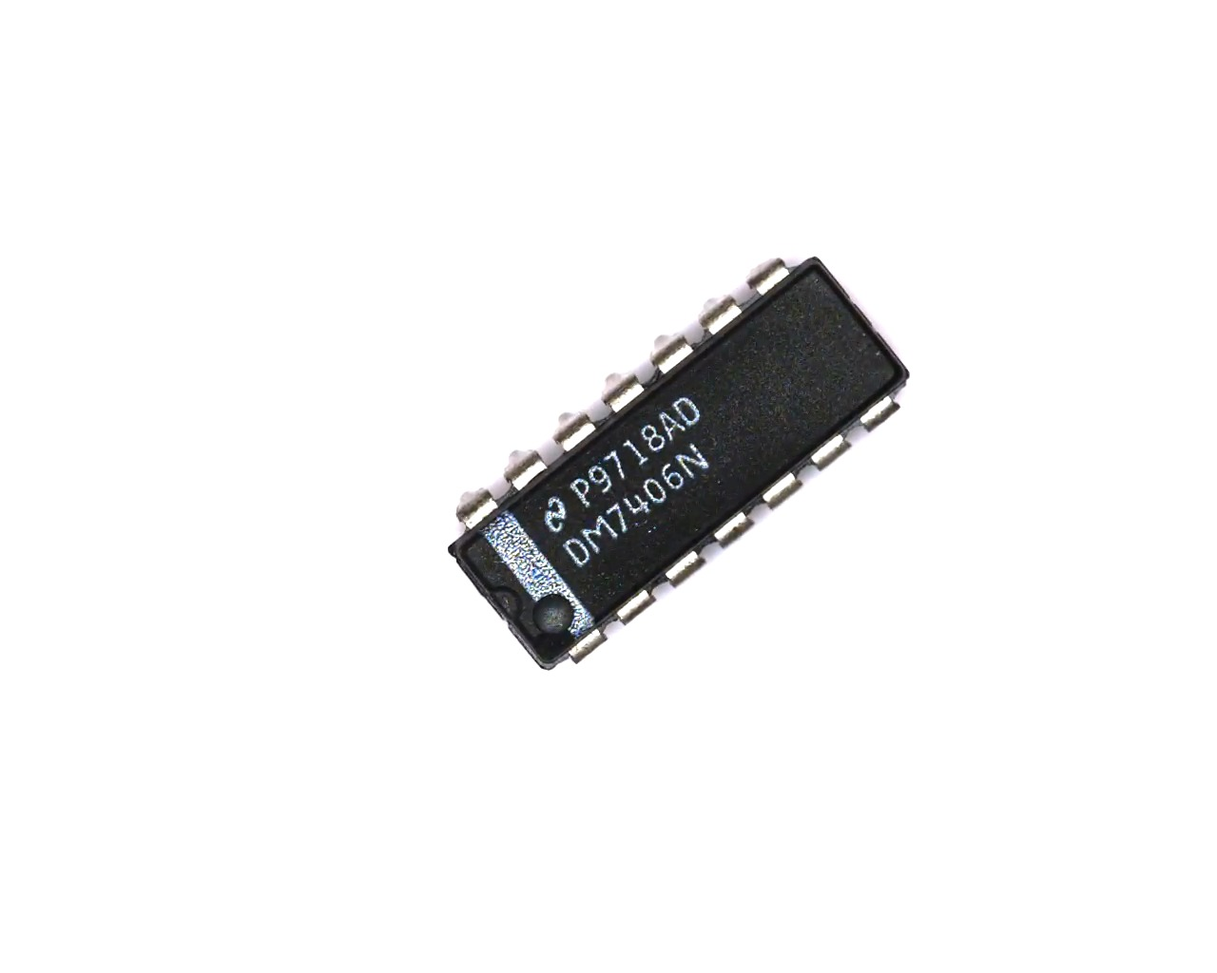IC: (413, 219, 944, 701)
notch: (482, 581, 527, 622)
